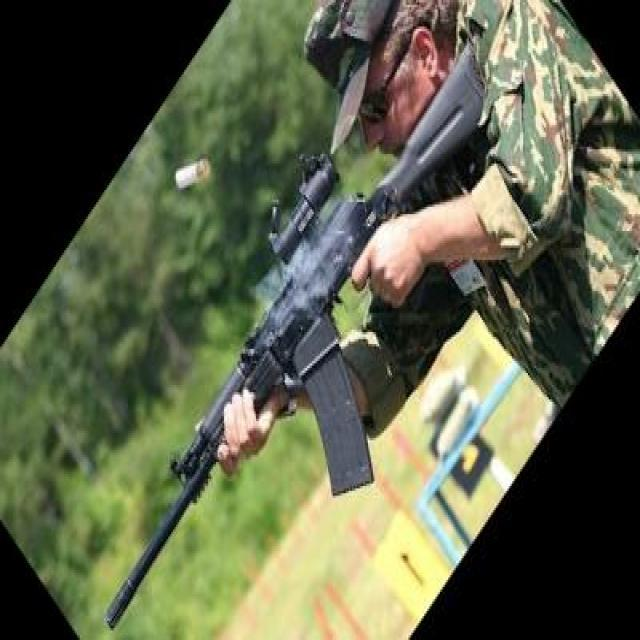weapon: (103, 40, 487, 632)
